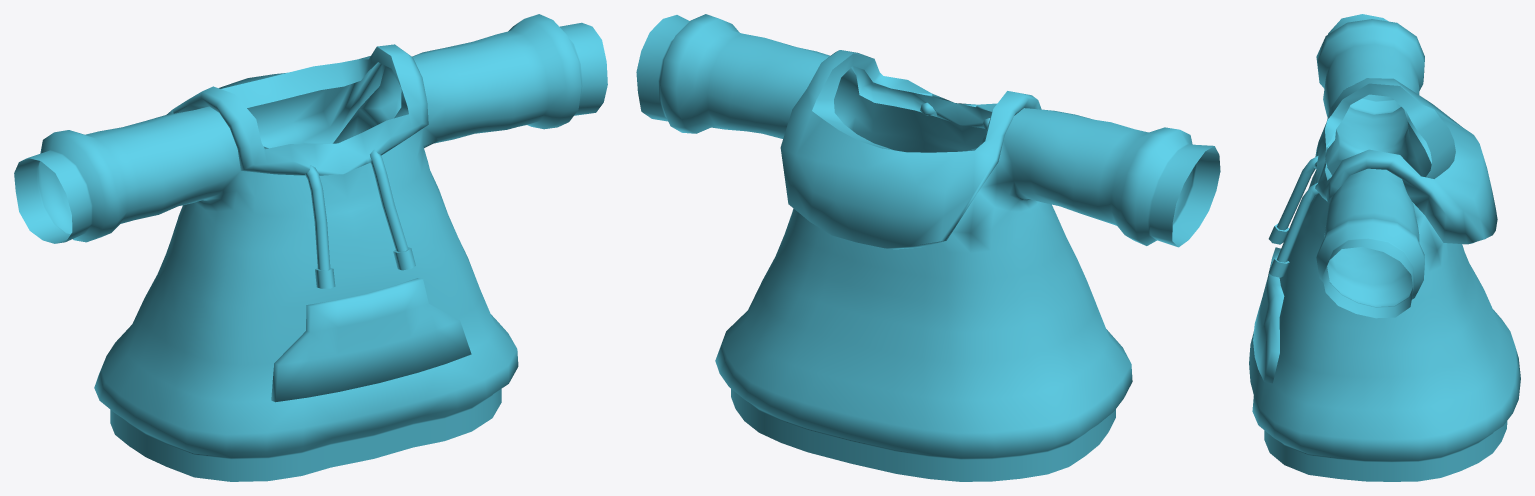
File: Top_Hoodie_Hood_Pocket.fbx
The picture shows the model from 3 angles, left to right: view 1: azimuth 30°, elevation 25°; view 2: azimuth 150°, elevation 25°; view 3: azimuth 270°, elevation 25°; orthographic projection. The views are drawn at different scales.
Parts seen in each view (by area): view 1: Hoodie_Hood_Pocket, Hoodie_Strings; view 2: Hoodie_Hood_Pocket; view 3: Hoodie_Hood_Pocket, Hoodie_Strings.
Part boxes in pixels (x1=…): Hoodie_Hood_Pocket: x1=14, y1=14, x2=607, y2=481; Hoodie_Strings: x1=305, y1=149, x2=415, y2=288; Hoodie_Hood_Pocket: x1=636, y1=14, x2=1220, y2=481; Hoodie_Hood_Pocket: x1=1249, y1=14, x2=1520, y2=481; Hoodie_Strings: x1=1268, y1=156, x2=1318, y2=277.
Bounding box in the file's own units: 173 × 101 × 84.87.
